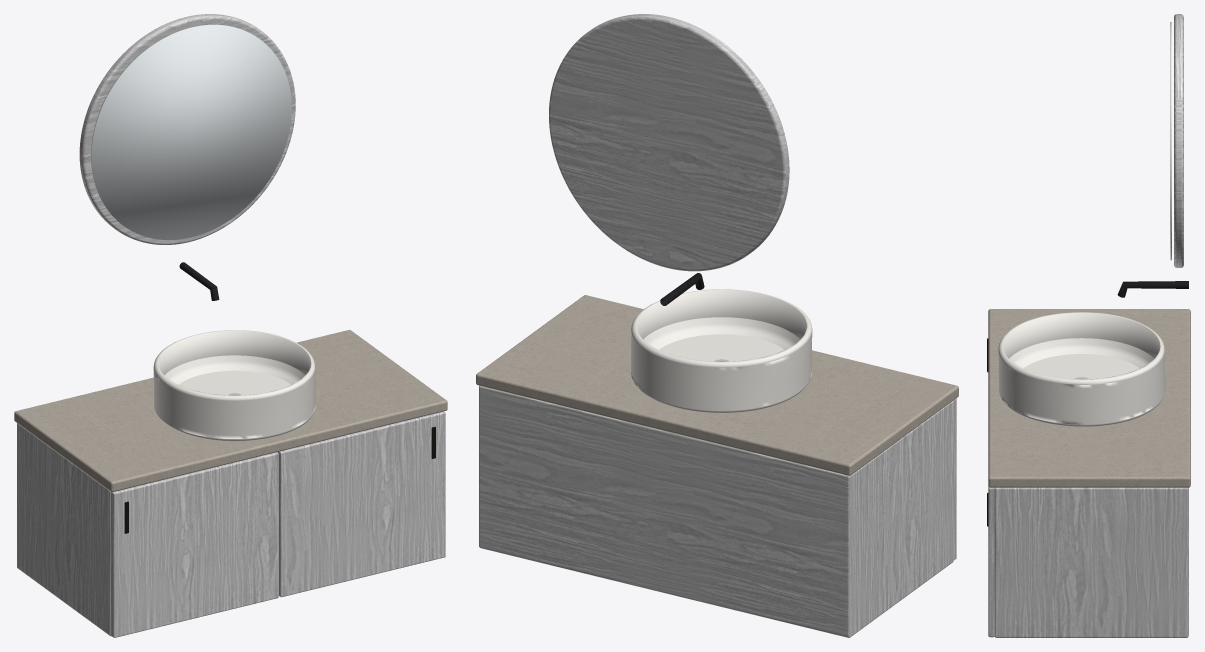
Rendered from vanity-1000.gltf.
The picture shows the model from 3 angles, left to right: view 1: azimuth 30°, elevation 25°; view 2: azimuth 150°, elevation 25°; view 3: azimuth 270°, elevation 25°; orthographic projection. The views are drawn at different scales.
Parts seen in each view (by area): view 1: vanity; view 2: vanity; view 3: vanity.
Boxes of the visible parts, x1,y1,x2,y2 form: vanity: (14, 14, 447, 637); vanity: (476, 14, 958, 637); vanity: (987, 14, 1190, 637).
Bounding box in the file's own units: 1.01 × 1.47 × 0.513.
Materials: 7 (2 with a texture image).
